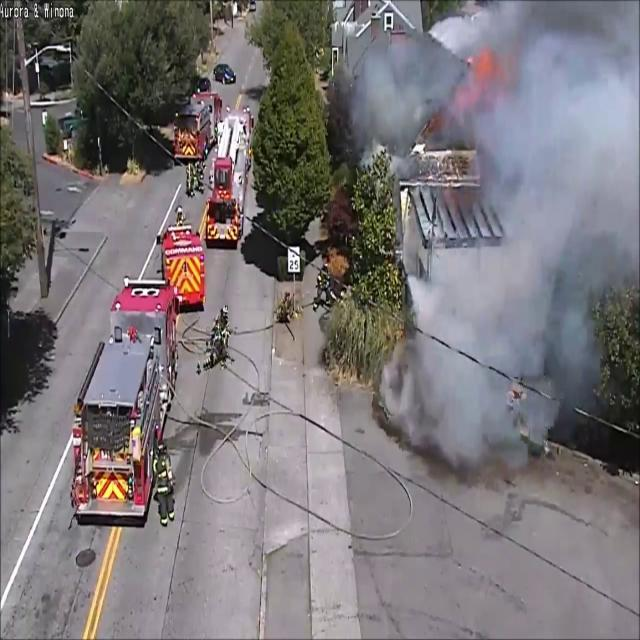Fire: (94, 472, 129, 508)
Smoke: (384, 1, 638, 469)
